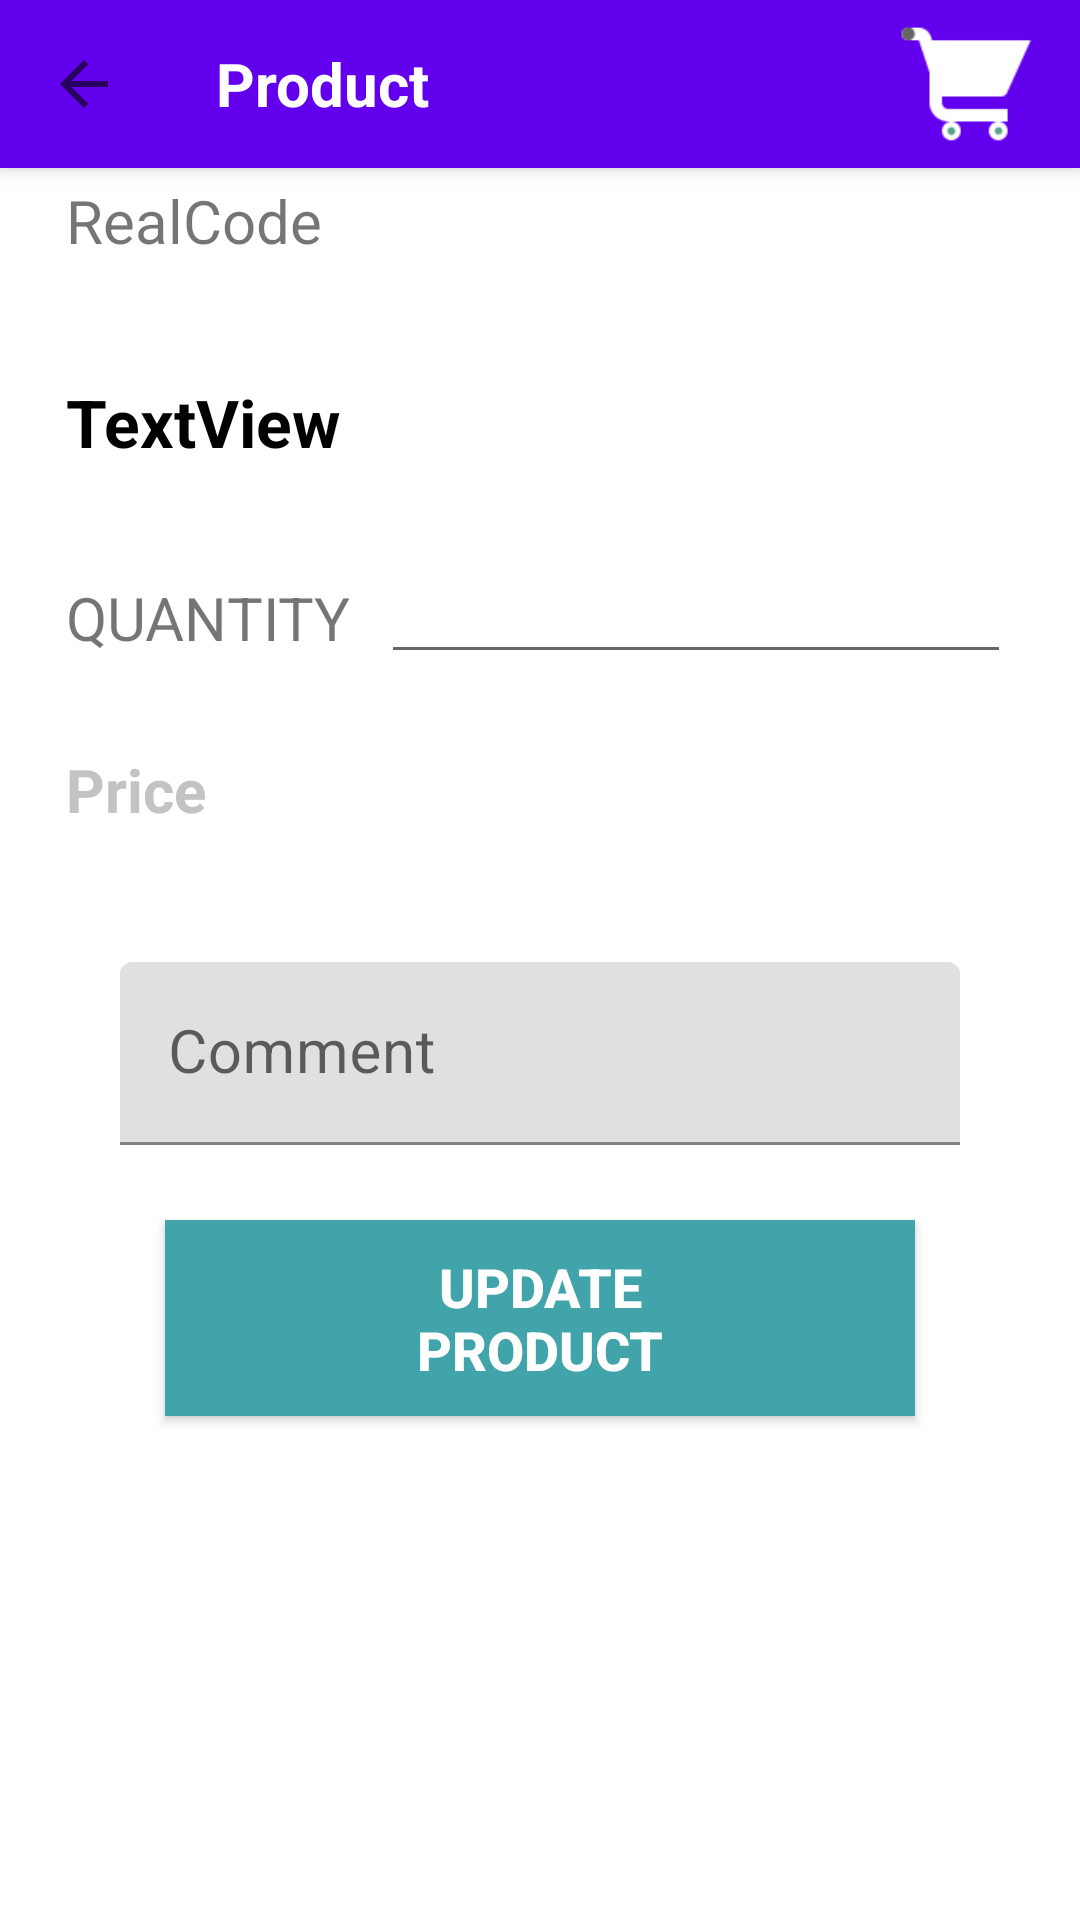

Icons on this 1080px×1920px Android screen, each with the point to tap as point (x, y):
cart: point (966, 83)
